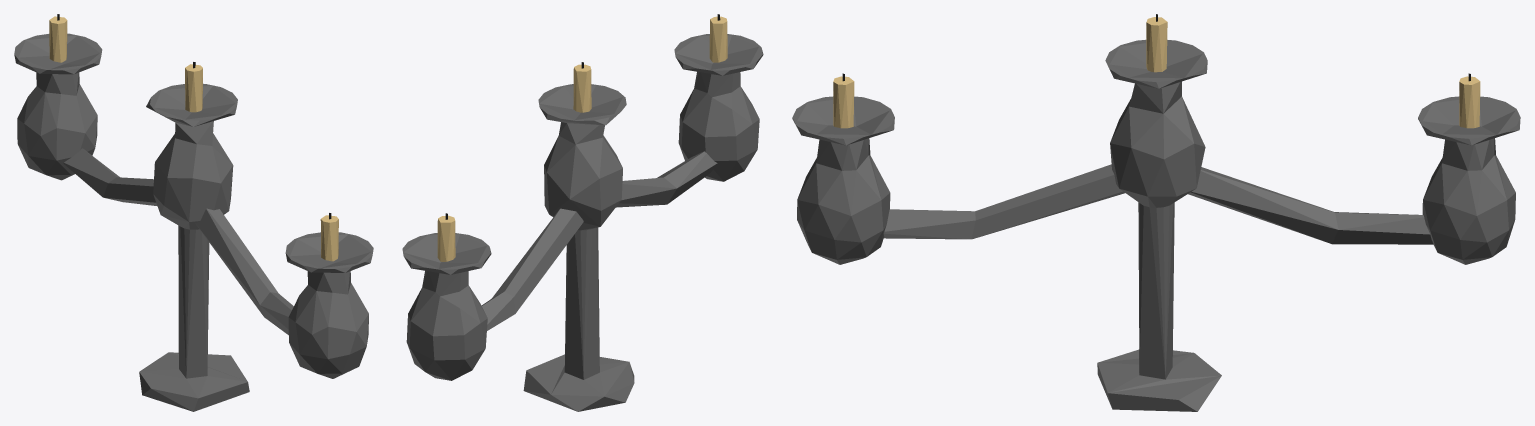
Rendered from bord_lysestage (3).fbx.
3 views of the same model, side by side, from view 1: azimuth 30°, elevation 25°; view 2: azimuth 150°, elevation 25°; view 3: azimuth 270°, elevation 25° (orthographic). The views are drawn at different scales.
Parts seen in each view (by area): view 1: Cylinder.002; view 2: Cylinder.002; view 3: Cylinder.002.
Part boxes in pixels (<box>): Cylinder.002: <box>14,14,373,411</box>; Cylinder.002: <box>402,14,763,411</box>; Cylinder.002: <box>792,14,1520,411</box>.
Size of the model in its own units: 87.39 by 288 by 509.
